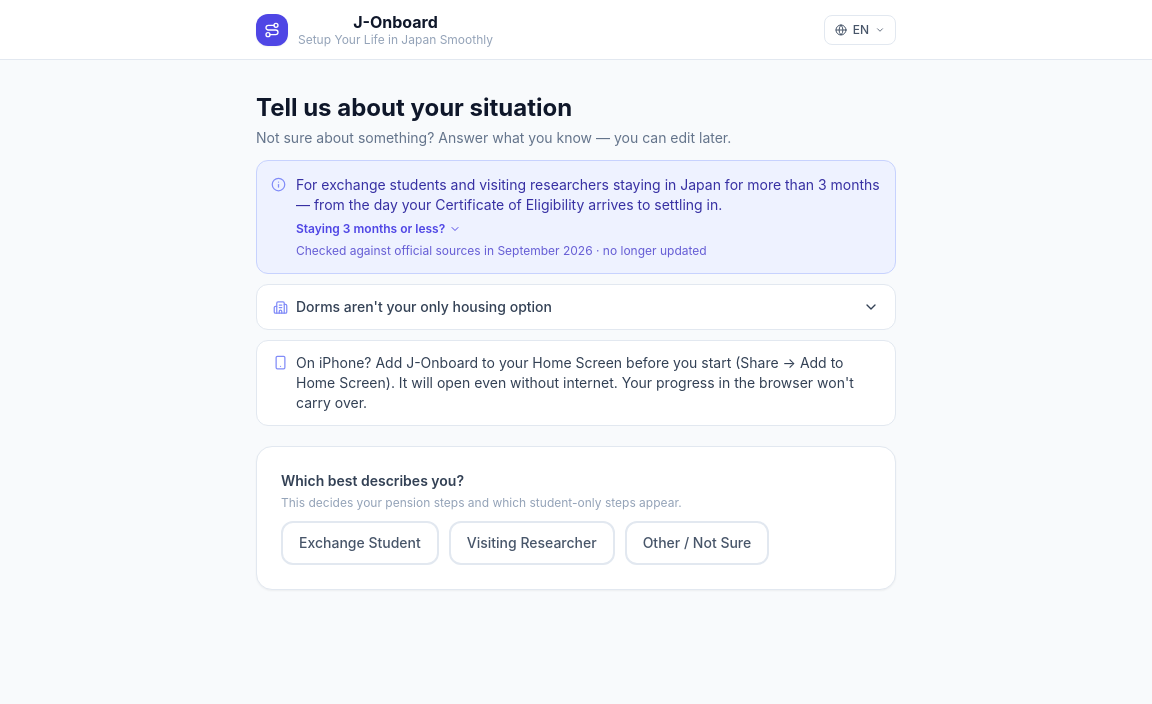
app › the info button opens the explanation without expanding the card
Click the button "Exchange Student": (360, 543) [281,521,439,565]
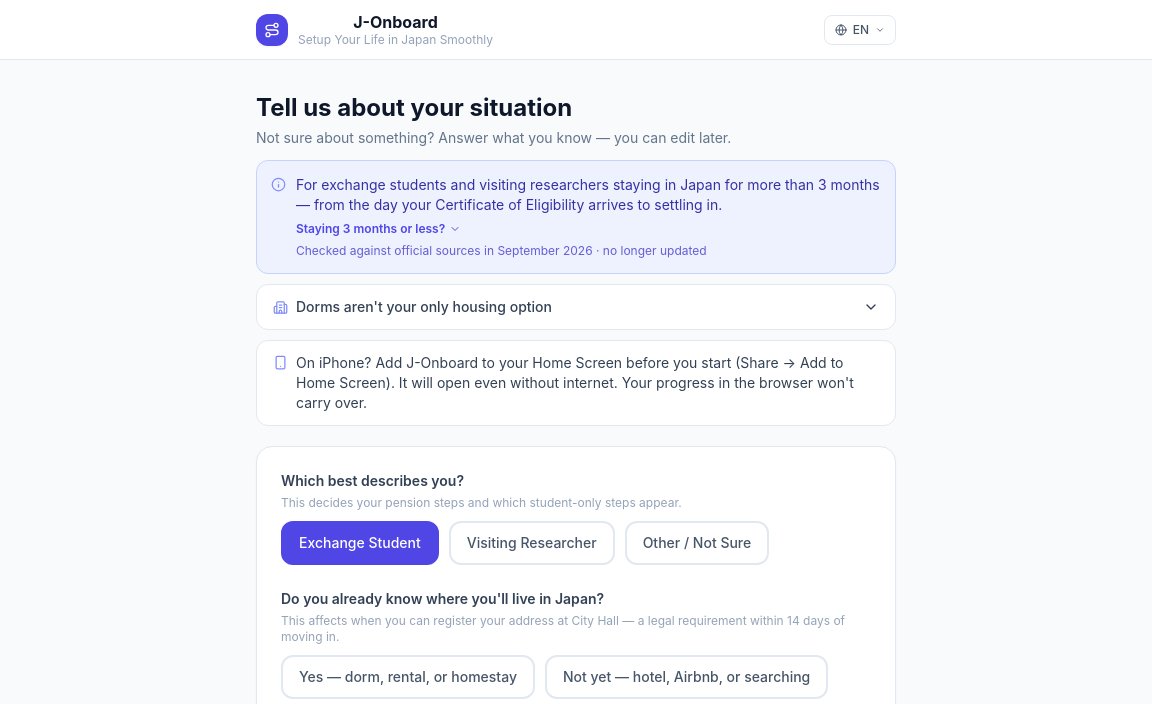
Click the button "Yes — dorm, rental, or homestay": (408, 677) [281,655,535,699]
(page scrolled)
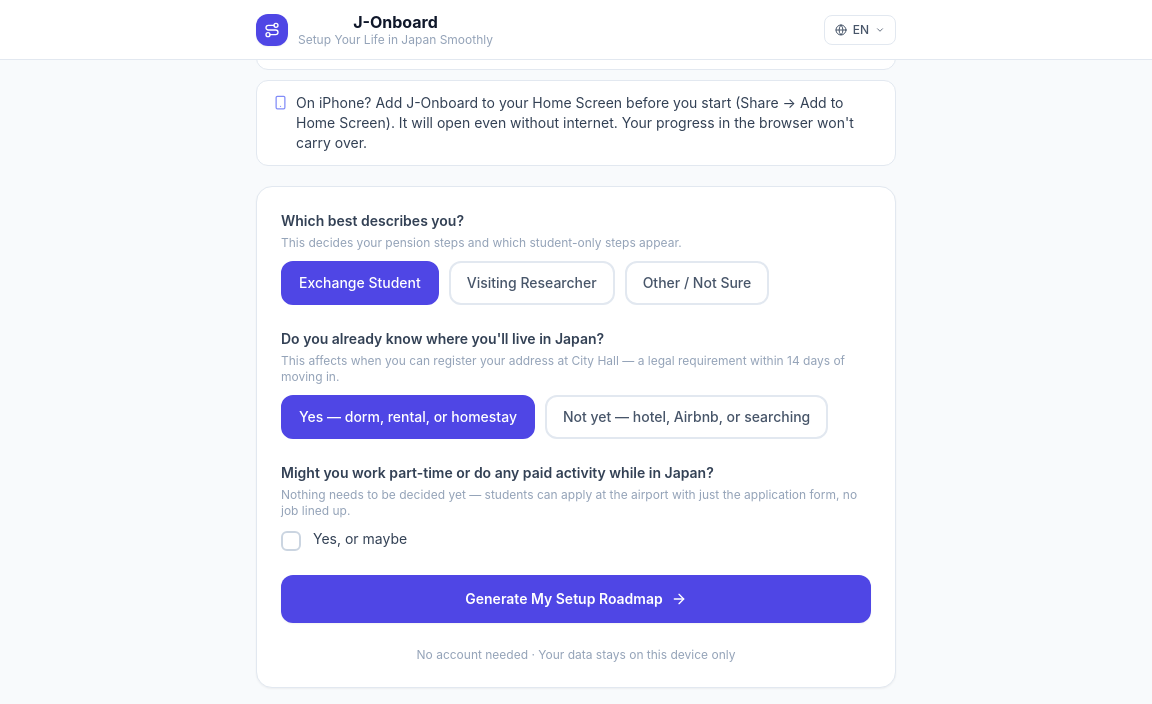
Click the button "Generate My Setup Roadmap": (576, 599) [281,575,871,623]
(page scrolled)
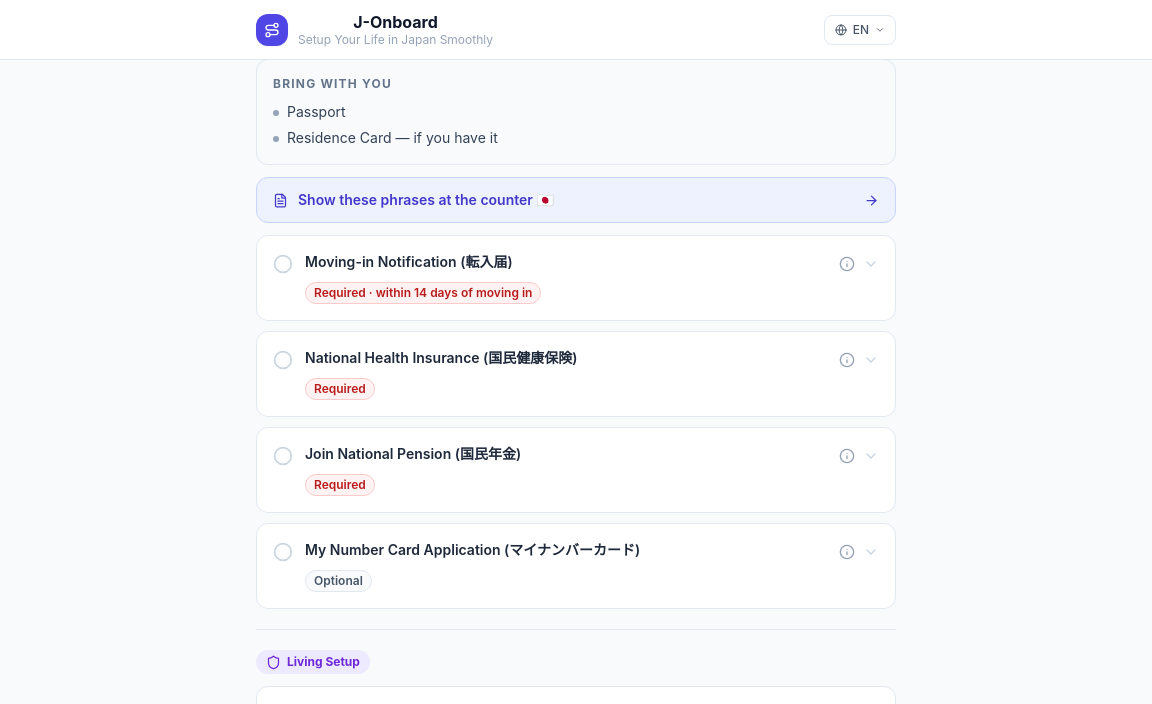
Click the button named "What to know" in the row of "National Health Insurance (国民健康保険)": (847, 360) [835,348,859,372]
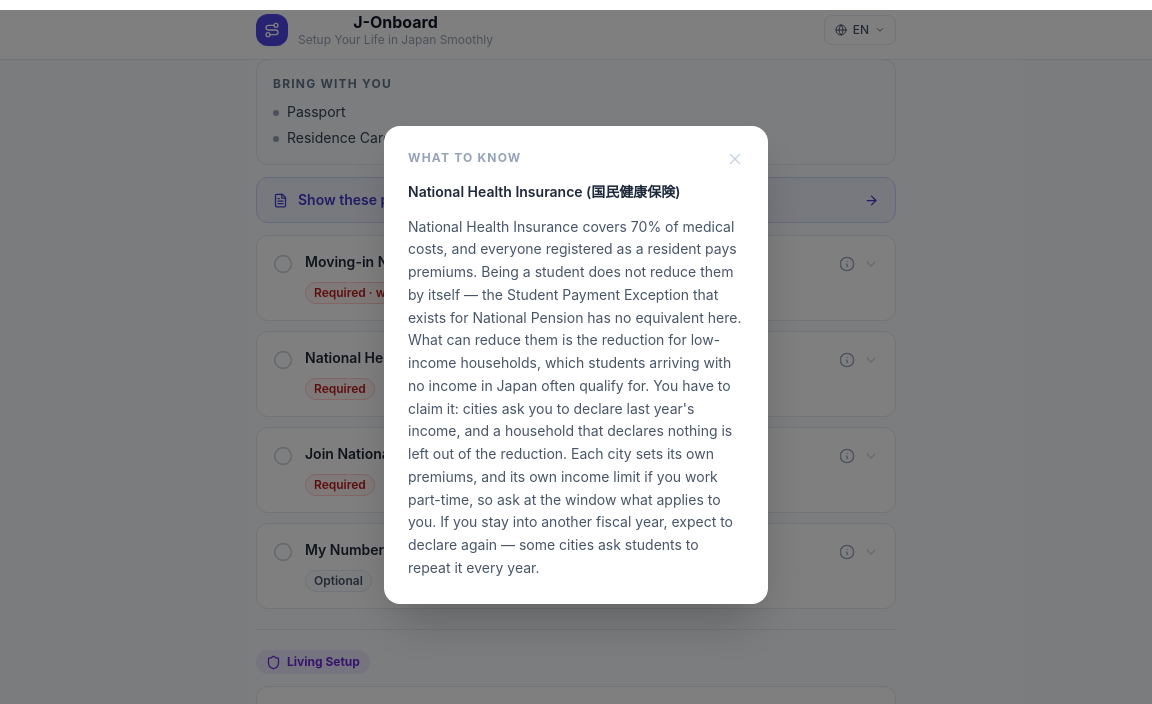
expect the text "covers 70% of medical costs" is shown: met, box [408,218,742,576]
